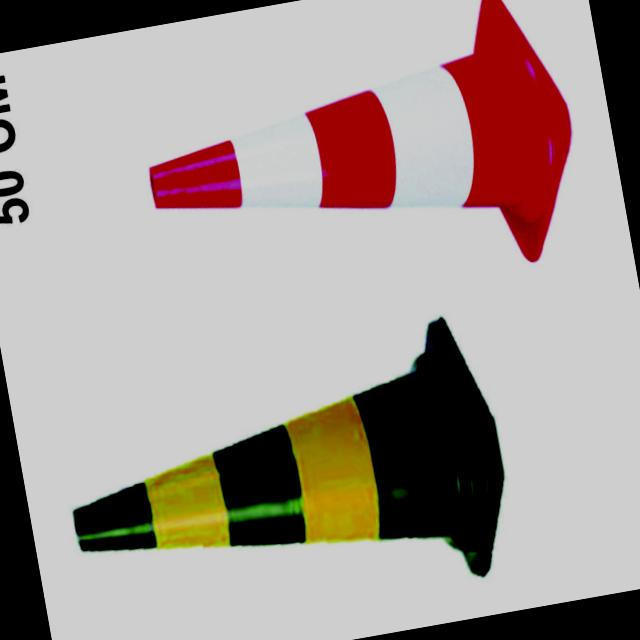cone: (108, 0, 585, 324), (53, 312, 519, 640)
